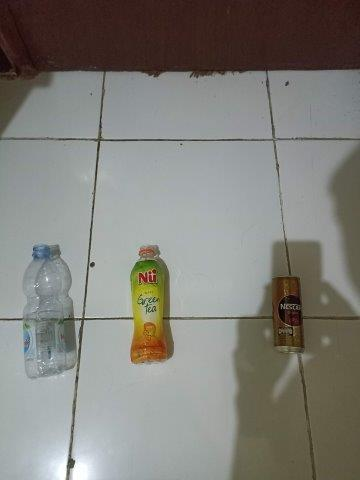botolplastik: (23, 244, 66, 377), (130, 244, 166, 365)
kaleng: (272, 275, 305, 355)
